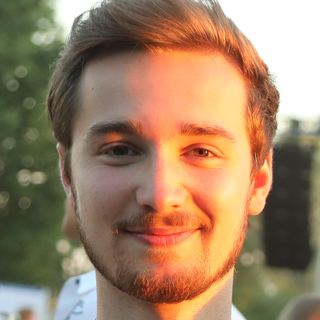eye: (173, 138, 233, 171), (86, 138, 151, 166)
